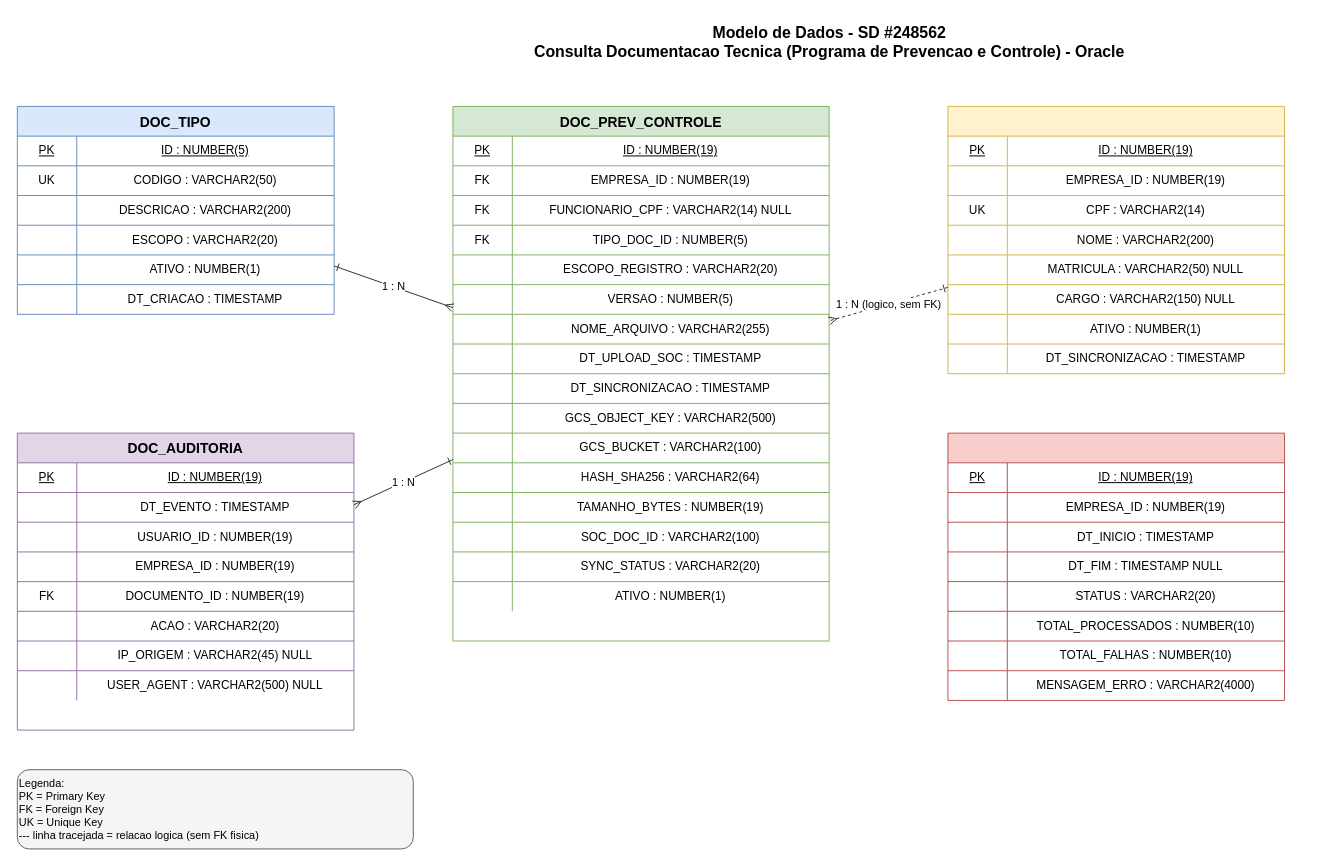
The diagram is 1341 pixels wide and 866 high, and some of its shapes have lost their labels. The shapes that lost their labels are listed below. From the top down, each one's box as (x1, y1, x2, y2) in pixels, then its label:
(947, 105, 1285, 374): DOC_FUNCIONARIO
(947, 432, 1285, 700): DOC_SYNC_JOB
